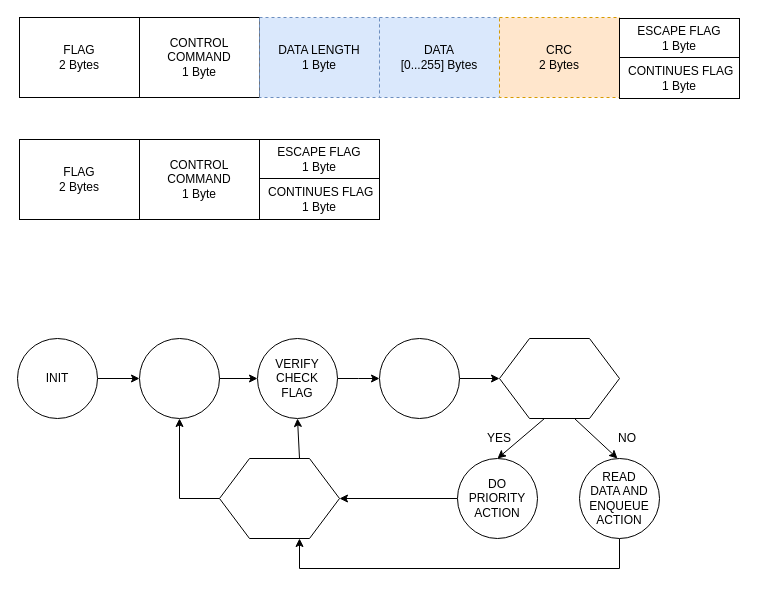
The diagram is 757 pixels wide and 594 high, and some of its shapes have lost their labels. Here are the shapes that lost their labels. From the top down, the centre of each, then its label:
[179,378]: SYNC FLAG
[419,378]: READ CONTROL COMMAND
[559,378]: IS IT A PRIORITY?
[279,498]: CONTINUES FLAG?
